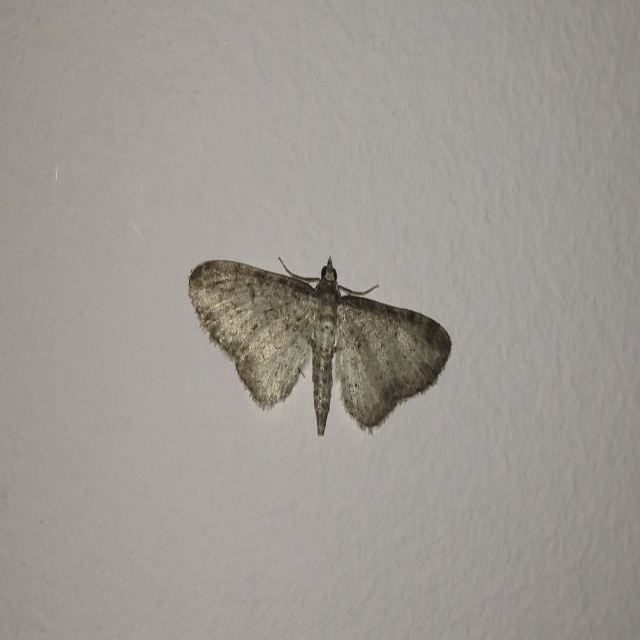Butterfly: (187, 240, 451, 436)
